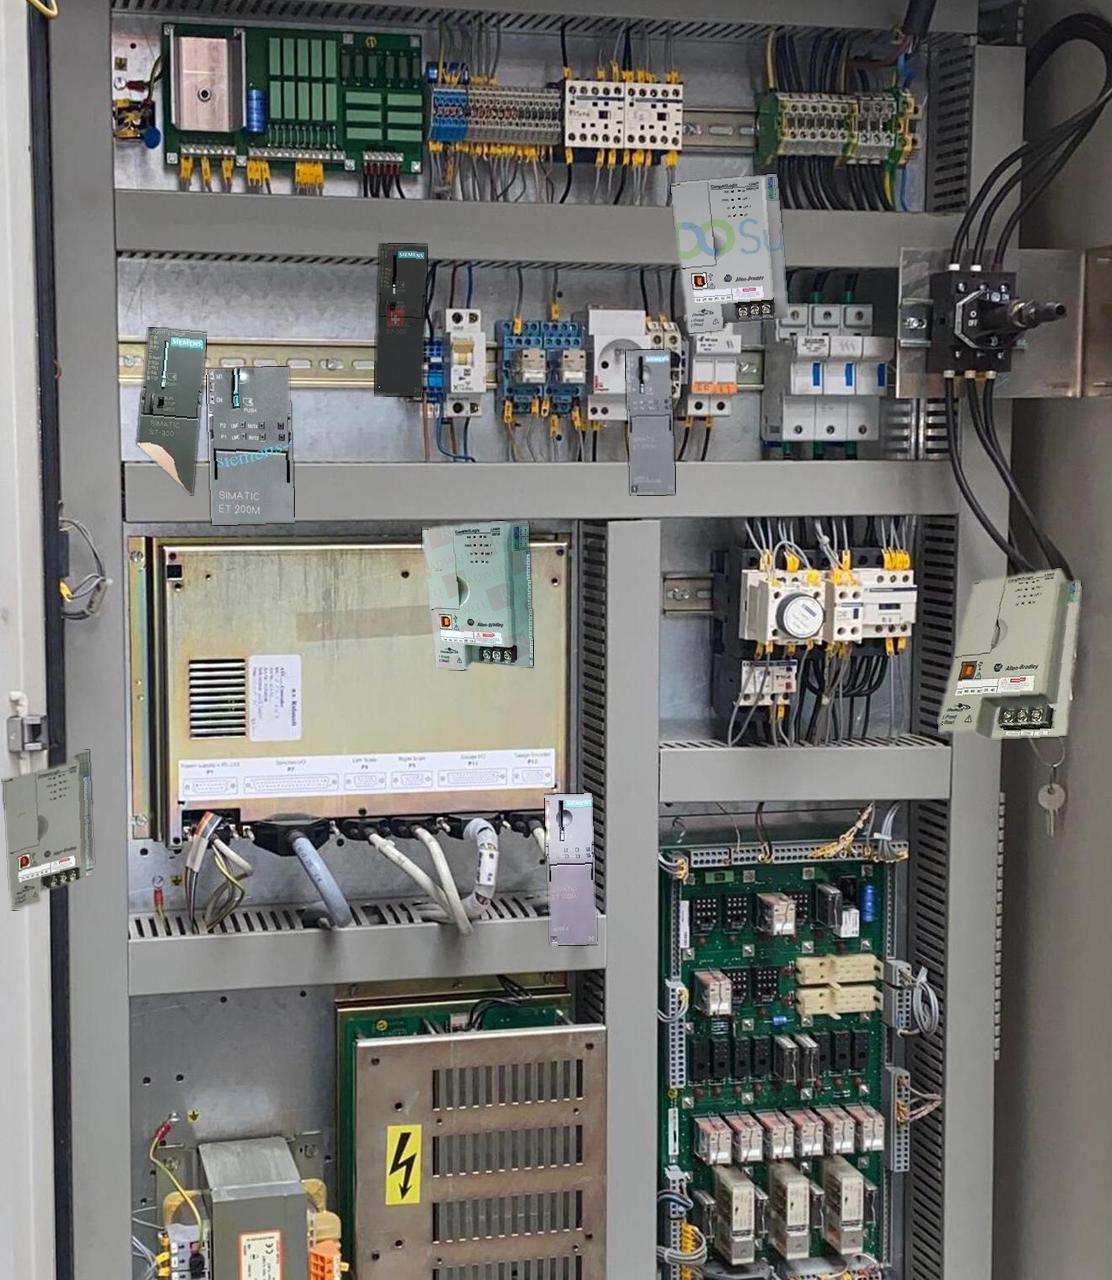AllenBradley: (938, 568, 1082, 738), (671, 174, 787, 332), (422, 521, 533, 669), (3, 750, 92, 909)
Siemens: (137, 328, 206, 494), (374, 243, 427, 396)
